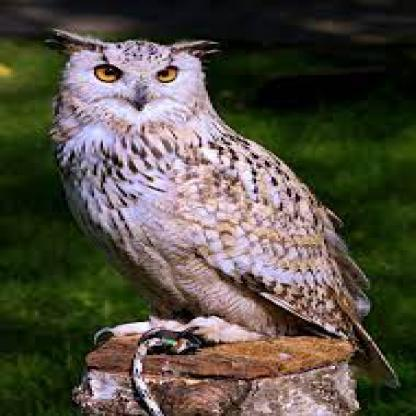owl: (28, 0, 414, 415)
